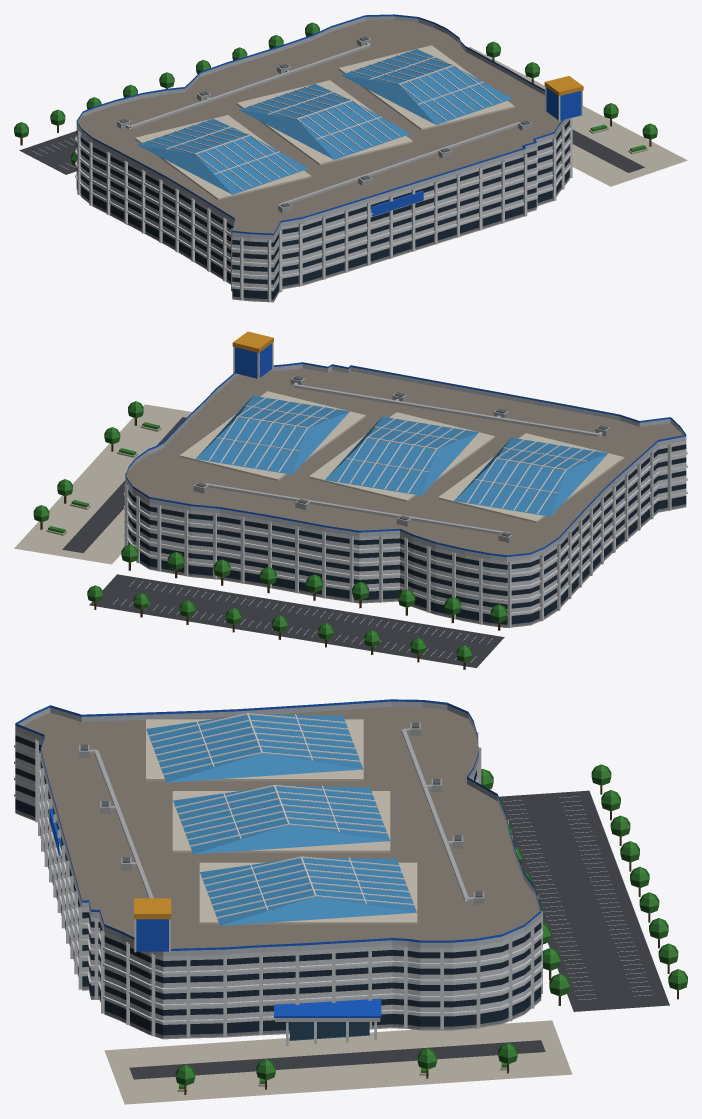
Rendered from mal-ska-lod0.glb.
3 renders of one model, top to bottom at view 1: azimuth 30°, elevation 25°; view 2: azimuth 150°, elevation 25°; view 3: azimuth 270°, elevation 25°, orthographic. The views are drawn at different scales.
Visible parts, largest first — view 1: mal-ska_LOD0; view 2: mal-ska_LOD0; view 3: mal-ska_LOD0.
Boxes of the visible parts, x1,y1,x2,y2 form: mal-ska_LOD0: [14, 14, 687, 302]; mal-ska_LOD0: [14, 331, 687, 669]; mal-ska_LOD0: [14, 699, 687, 1104].
Size of the model in its own units: 184 by 34.3 by 166.
